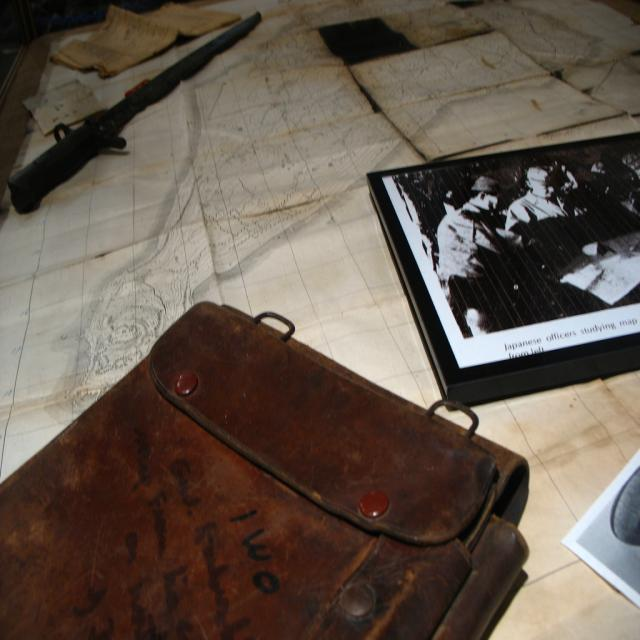weapon: (7, 6, 262, 220)
